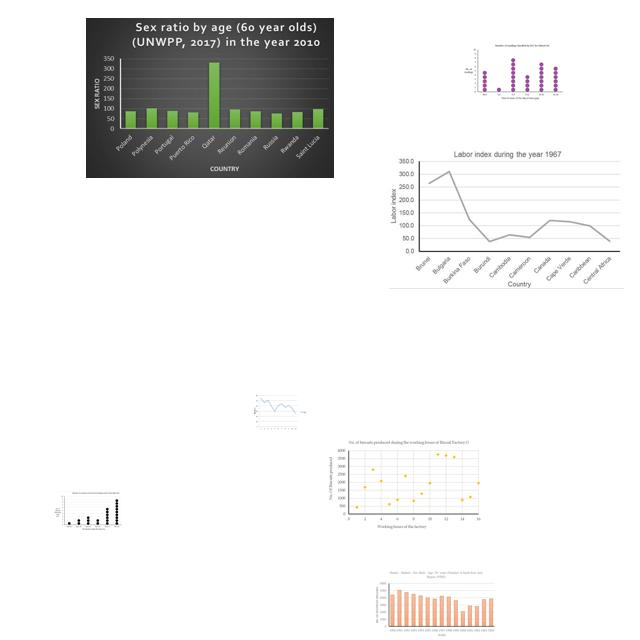Graph: (86, 18, 334, 178), (389, 148, 624, 289), (326, 437, 484, 531), (372, 569, 497, 638), (461, 42, 565, 102), (54, 491, 122, 531), (253, 394, 307, 430)
